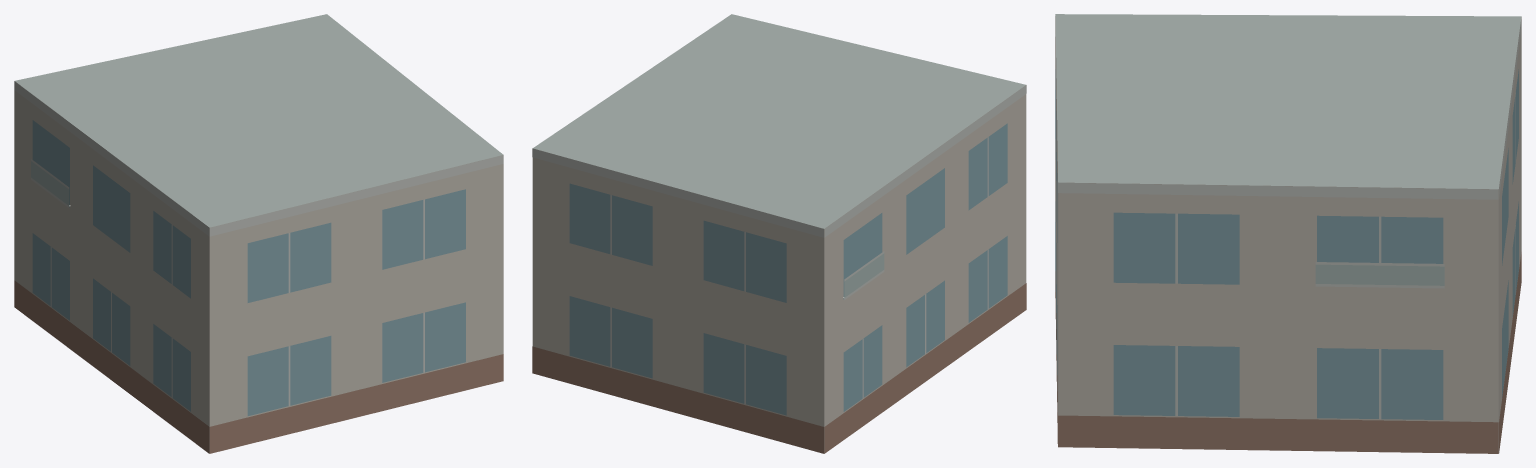
Rendered from survey-upis-33006285.glb.
3 views of the same model, side by side, from view 1: azimuth 30°, elevation 25°; view 2: azimuth 150°, elevation 25°; view 3: azimuth 270°, elevation 25° (orthographic). The views are drawn at different scales.
Parts seen in each view (by area): view 1: survey-upis-33006285.tmp; view 2: survey-upis-33006285.tmp; view 3: survey-upis-33006285.tmp.
Part boxes in pixels (bbox=[...]): survey-upis-33006285.tmp: bbox=[14, 14, 503, 453]; survey-upis-33006285.tmp: bbox=[532, 14, 1026, 453]; survey-upis-33006285.tmp: bbox=[1055, 14, 1521, 453].
Bounding box in the file's own units: 8.67 × 6.1 × 9.75.
